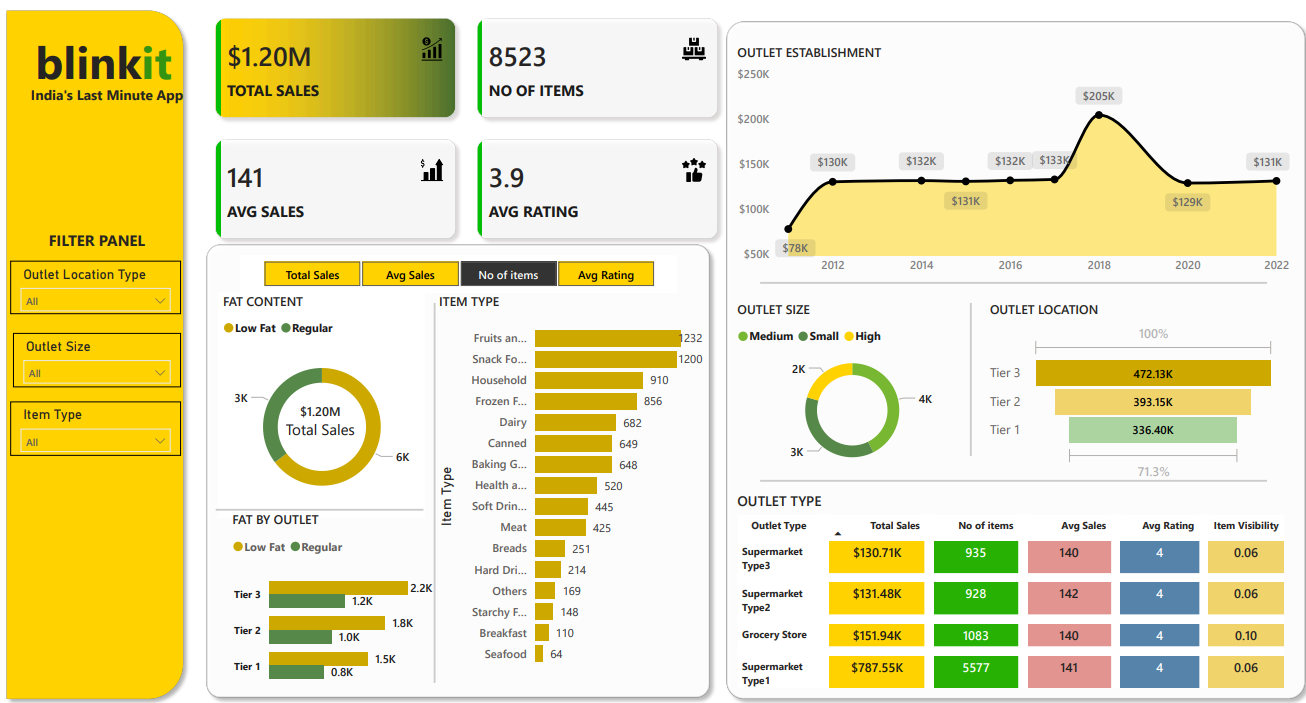

The dashboard page shown, as its layout file describes it:
{"tool":"powerbi","page":{"name":"Page 1","canvas":[1400,800],"ordinal":0},"visuals":[{"type":"shape","box":[0,0,205.7,750.4],"z":0},{"type":"textbox","box":[29.1,23.7,167.4,120.1],"z":1000},{"type":"textbox","box":[0,83.2,202.5,44],"z":2000},{"type":"cardVisual","fields":{"Data":["BlinkIT Grocery Data.Total Sales","BlinkIT Grocery Data.No of items","BlinkIT Grocery Data.Avg Sales","BlinkIT Grocery Data.Avg Rating"]},"box":[215.2,0,568.3,268.5],"z":3000},{"type":"shape","box":[214.3,249.1,553.2,500.1],"z":4000},{"type":"donutChart","title":"FAT CONTENT","fields":{"Y":["BlinkIT Grocery Data.Total Sales"],"Category":["BlinkIT Grocery Data.Item Fat Content"]},"box":[234.8,309.4,220.2,240.2],"z":5000},{"type":"slicer","fields":{"Values":["Metrics.Metrics"]},"box":[258.3,269.3,465.3,40.3],"z":6000},{"type":"cardVisual","fields":{"Data":["BlinkIT Grocery Data.Total Sales"]},"box":[288.9,401.9,109.9,86.3],"z":7000},{"type":"clusteredBarChart","title":"FAT BY OUTLET","fields":{"Y":["BlinkIT Grocery Data.Total Sales"],"Category":["BlinkIT Grocery Data.Outlet Location Type"],"Series":["BlinkIT Grocery Data.Item Fat Content"]},"box":[244.9,541.6,222.9,200.9],"z":8000},{"type":"shape","box":[232.3,513.4,221.4,54.9],"z":9000},{"type":"shape","box":[433.3,320.3,64.4,405],"z":10000},{"type":"clusteredBarChart","title":"ITEM TYPE","fields":{"Y":["BlinkIT Grocery Data.Total Sales"],"Category":["BlinkIT Grocery Data.Item Type"]},"box":[465.3,309,290.6,408.3],"z":11000},{"type":"shape","box":[767.7,11,632.7,739.4],"z":12000},{"type":"lineChart","title":"OUTLET ESTABLISHMENT","fields":{"Category":["BlinkIT Grocery Data.Outlet Establishment Year"],"Y":["BlinkIT Grocery Data.Total Sales"]},"box":[783.4,44,598.1,254.3],"z":13000},{"type":"shape","box":[811.6,279.4,540,39.2],"z":13001},{"type":"donutChart","title":"OUTLET SIZE","fields":{"Y":["BlinkIT Grocery Data.Total Sales"],"Category":["BlinkIT Grocery Data.Outlet Size"]},"box":[783.4,318.4,254.3,186.8],"z":13002},{"type":"shape","box":[907.4,320.3,259,163.3],"z":13003},{"type":"funnel","title":"OUTLET LOCATION","fields":{"Category":["BlinkIT Grocery Data.Outlet Location Type"],"Y":["Sum(BlinkIT Grocery Data.Sales)"]},"box":[1051.8,318.4,314,196.2],"z":13004},{"type":"shape","box":[811.6,489.8,540,39.2],"z":13005},{"type":"pivotTable","title":"OUTLET TYPE","fields":{"Rows":["BlinkIT Grocery Data.Outlet Type"],"Values":["BlinkIT Grocery Data.Total Sales","BlinkIT Grocery Data.No of items","BlinkIT Grocery Data.Avg Sales","BlinkIT Grocery Data.Avg Rating","Avg(BlinkIT Grocery Data.Item Visibility)"]},"box":[783,521.2,616.9,216.6],"z":13006},{"type":"slicer","fields":{"Values":["BlinkIT Grocery Data.Outlet Location Type"]},"box":[12.6,274.7,182.1,56.5],"z":13007},{"type":"slicer","fields":{"Values":["BlinkIT Grocery Data.Outlet Size"]},"box":[15.7,351.7,179,58.1],"z":13008},{"type":"slicer","fields":{"Values":["BlinkIT Grocery Data.Item Type"]},"box":[12.6,425.4,182.1,58.1],"z":13009},{"type":"textbox","box":[15.7,237.1,179,31.4],"z":13010}]}

Visuals, with their boxes on the page's 1400x800 design canvas (x1, y1, x2, y2). These are canvas units, not pixel positions in the 1306x703 screenshot, which may show the page scaled, cropped or inside an application window:
shape: {"left": 0, "top": 0, "right": 206, "bottom": 750}
textbox: {"left": 29, "top": 24, "right": 196, "bottom": 144}
textbox: {"left": 0, "top": 83, "right": 202, "bottom": 127}
cardVisual - BlinkIT Grocery Data.Total Sales x BlinkIT Grocery Data.No of items: {"left": 215, "top": 0, "right": 784, "bottom": 268}
shape: {"left": 214, "top": 249, "right": 768, "bottom": 749}
"FAT CONTENT" donutChart: {"left": 235, "top": 309, "right": 455, "bottom": 550}
slicer - Metrics.Metrics: {"left": 258, "top": 269, "right": 724, "bottom": 310}
cardVisual - BlinkIT Grocery Data.Total Sales: {"left": 289, "top": 402, "right": 399, "bottom": 488}
"FAT BY OUTLET" clusteredBarChart: {"left": 245, "top": 542, "right": 468, "bottom": 742}
shape: {"left": 232, "top": 513, "right": 454, "bottom": 568}
shape: {"left": 433, "top": 320, "right": 498, "bottom": 725}
"ITEM TYPE" clusteredBarChart: {"left": 465, "top": 309, "right": 756, "bottom": 717}
shape: {"left": 768, "top": 11, "right": 1400, "bottom": 750}
"OUTLET ESTABLISHMENT" lineChart: {"left": 783, "top": 44, "right": 1382, "bottom": 298}
shape: {"left": 812, "top": 279, "right": 1352, "bottom": 319}
"OUTLET SIZE" donutChart: {"left": 783, "top": 318, "right": 1038, "bottom": 505}
shape: {"left": 907, "top": 320, "right": 1166, "bottom": 484}
"OUTLET LOCATION" funnel: {"left": 1052, "top": 318, "right": 1366, "bottom": 515}
shape: {"left": 812, "top": 490, "right": 1352, "bottom": 529}
"OUTLET TYPE" pivotTable: {"left": 783, "top": 521, "right": 1400, "bottom": 738}
slicer - BlinkIT Grocery Data.Outlet Location Type: {"left": 13, "top": 275, "right": 195, "bottom": 331}
slicer - BlinkIT Grocery Data.Outlet Size: {"left": 16, "top": 352, "right": 195, "bottom": 410}
slicer - BlinkIT Grocery Data.Item Type: {"left": 13, "top": 425, "right": 195, "bottom": 484}
textbox: {"left": 16, "top": 237, "right": 195, "bottom": 268}
